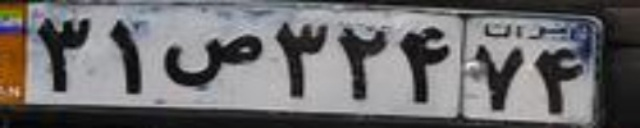1: (107, 19, 145, 94)
2: (335, 27, 392, 100)
3: (35, 17, 92, 93), (274, 21, 329, 99)
4: (398, 25, 452, 104), (536, 46, 586, 115)
7: (471, 42, 524, 111)
saat: (161, 31, 262, 86)
